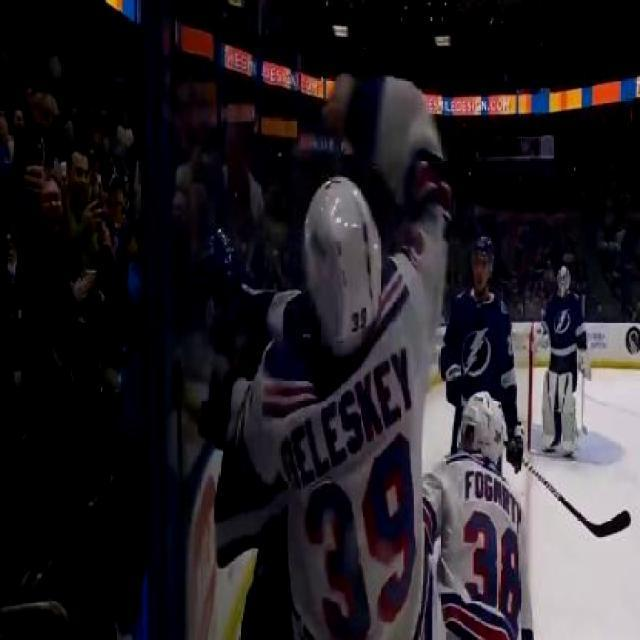fight: (204, 72, 453, 638)
non-fight: (444, 224, 518, 442), (532, 257, 588, 451)
